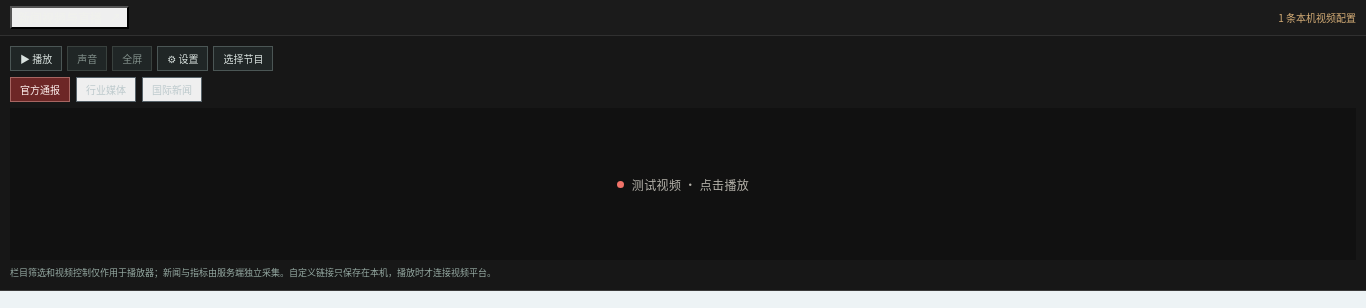
Test: live video controls › changes play and pause status only after the player reports its actual state
Click the button "▶ 播放".
click(36, 58)  # box [10,46,62,71]
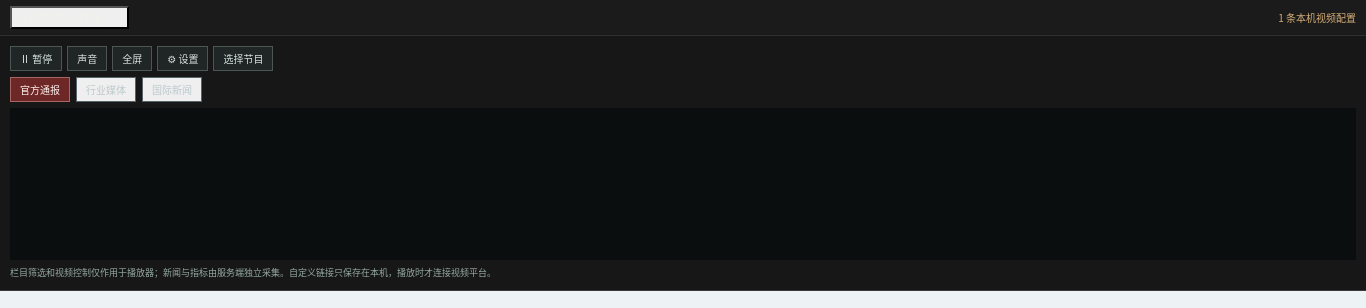
Click the button "Ⅱ 暂停".
click(36, 58)  # box [10,46,62,71]
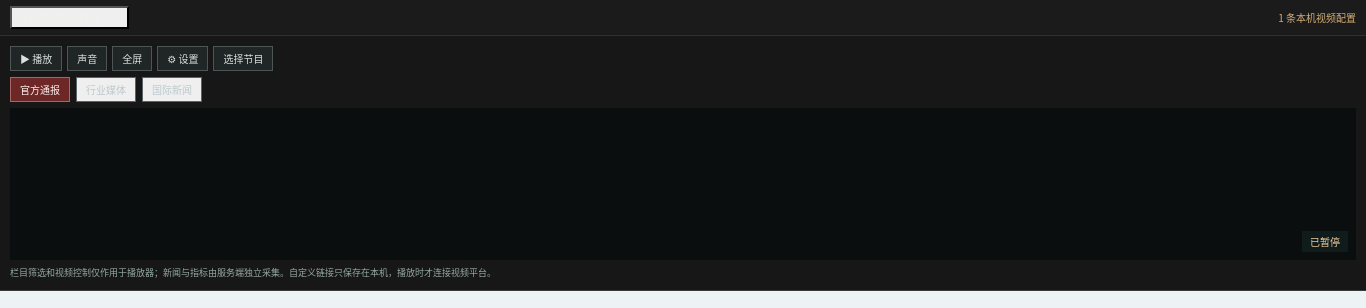
Check: the button "▶ 播放" is shown, box [10,46,62,71]
